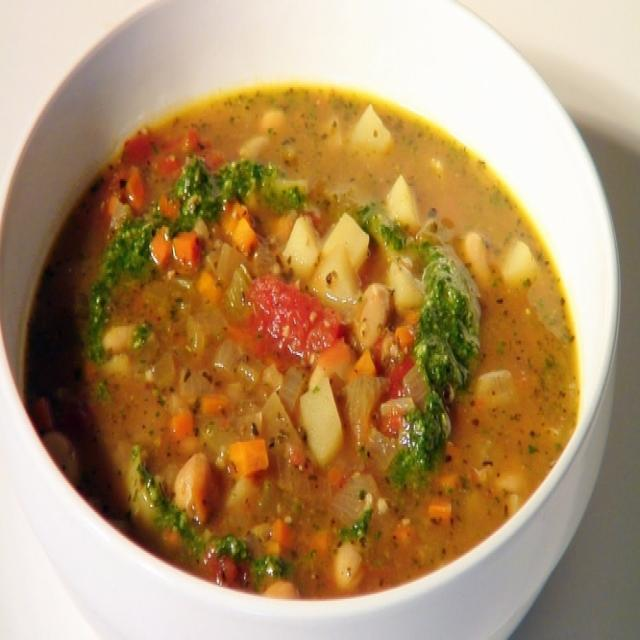汤锅炖物: (6, 20, 624, 623)
